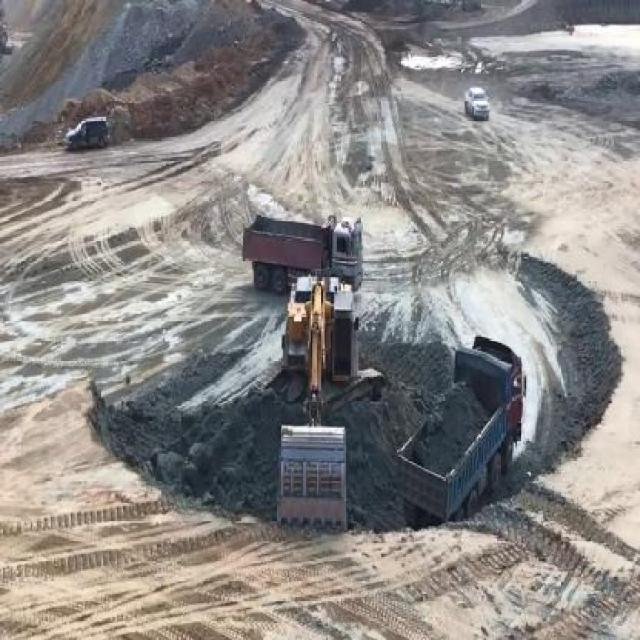Dump Truck: (395, 335, 523, 522), (241, 211, 364, 295)
Excavator: (275, 268, 387, 530)
